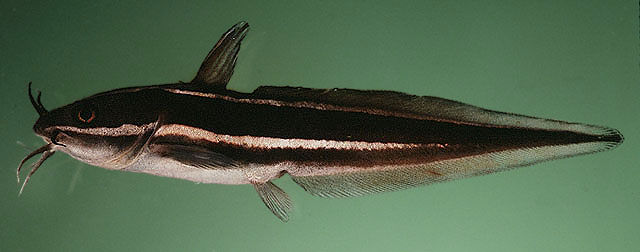fish: (33, 20, 626, 198)
